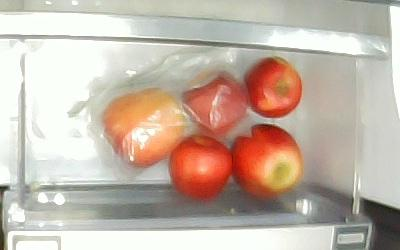apple: (231, 124, 303, 200), (168, 135, 232, 199), (245, 57, 302, 119)
apple_vinyl: (104, 88, 187, 167), (181, 70, 248, 135)
